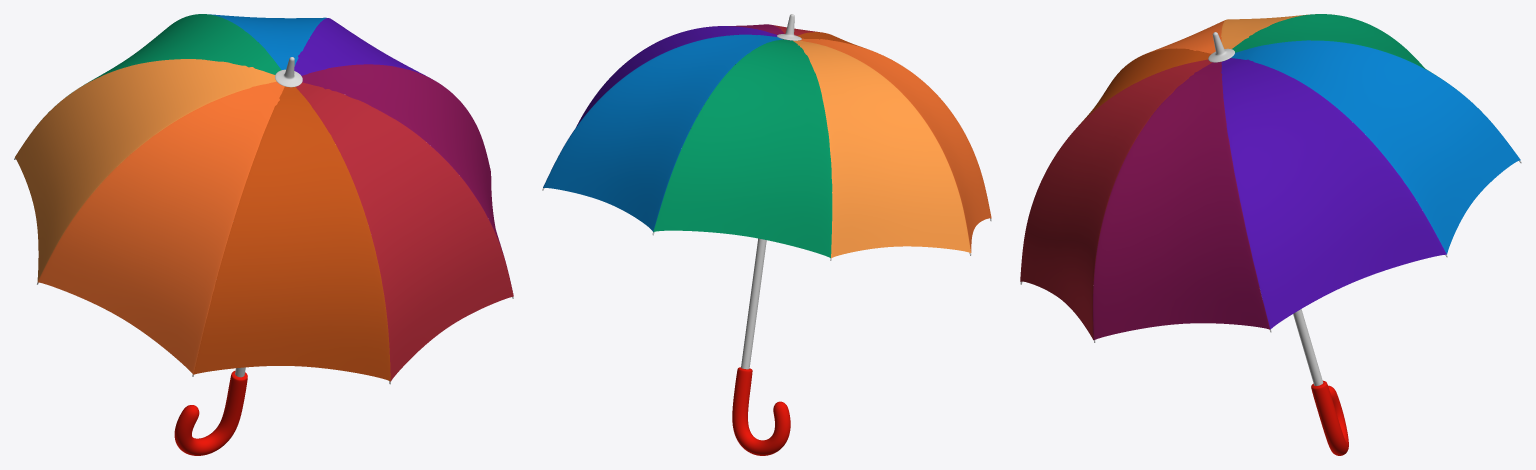
The model's file is umbrella.glb.
3 views of the same model, side by side, from view 1: azimuth 30°, elevation 25°; view 2: azimuth 150°, elevation 25°; view 3: azimuth 270°, elevation 25° (orthographic). The views are drawn at different scales.
Visible parts, largest first — view 1: Center; view 2: Center; view 3: Center.
Part boxes in pixels (<box>): Center: <box>14,14,513,455</box>; Center: <box>542,14,991,455</box>; Center: <box>1020,14,1521,455</box>.
Bounding box in the file's own units: 1.95 × 1.79 × 1.89.
